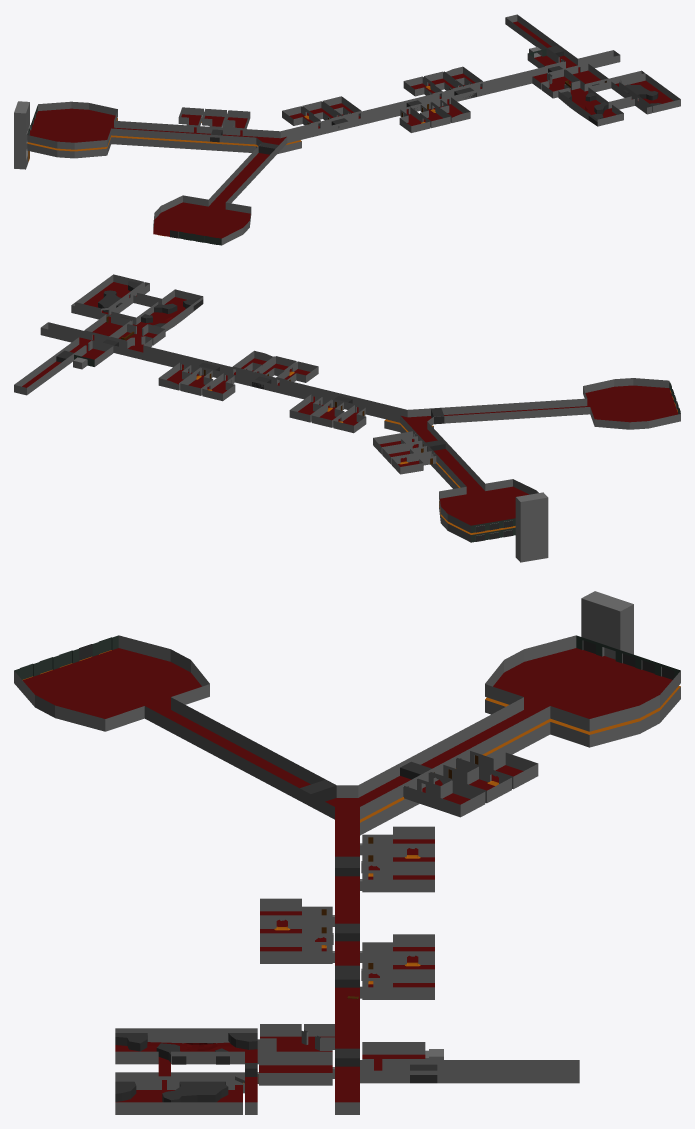
Rendered from New_nivel2.fbx.
The picture shows the model from 3 angles, top to bottom: view 1: azimuth 30°, elevation 25°; view 2: azimuth 150°, elevation 25°; view 3: azimuth 270°, elevation 25°; orthographic projection. The views are drawn at different scales.
Visible parts, largest first — view 1: polySurface1843; view 2: polySurface1843; view 3: polySurface1843, polySurface1855.
Boxes of the visible parts, x1,y1,x2,y2 form: polySurface1843: [14, 14, 680, 245]; polySurface1843: [14, 274, 680, 562]; polySurface1843: [14, 591, 680, 1114]; polySurface1855: [162, 1081, 228, 1102].
Size of the model in its own units: 22454 by 2250 by 13352.
